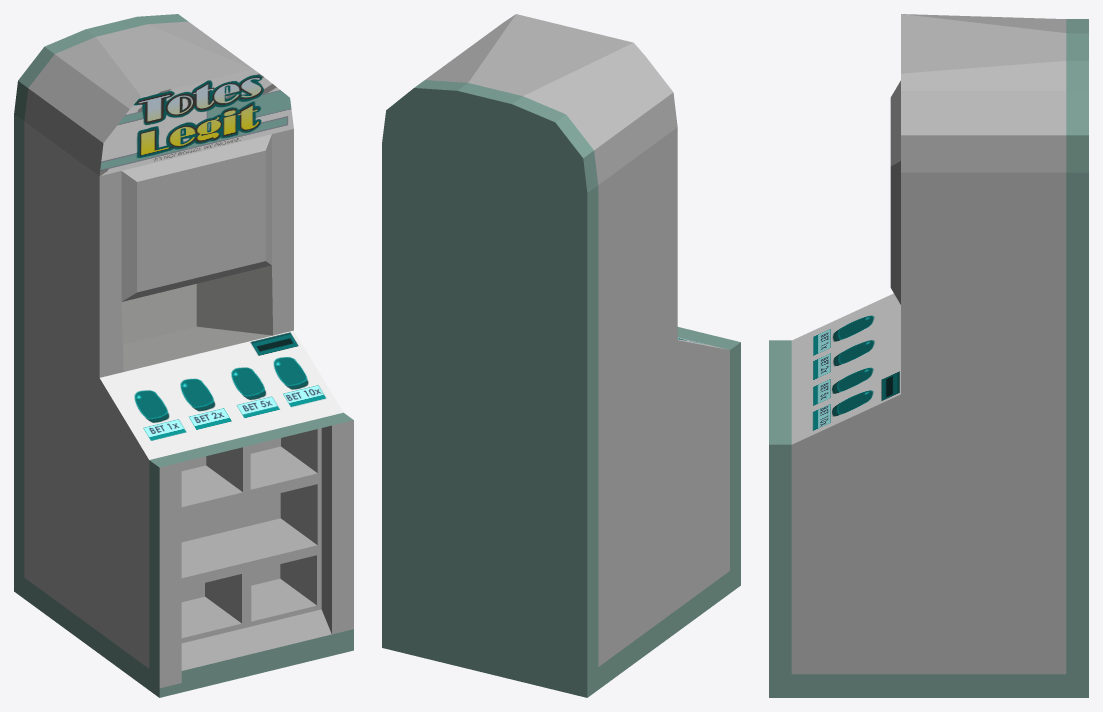
File: OpenCase.fbx
3 renders of one model, left to right at view 1: azimuth 30°, elevation 25°; view 2: azimuth 150°, elevation 25°; view 3: azimuth 270°, elevation 25°, orthographic. The views are drawn at different scales.
Parts seen in each view (by area): view 1: pCube4; view 2: pCube4; view 3: pCube4.
Boxes of the visible parts, x1,y1,x2,y2 form: pCube4: (14,14,353,697); pCube4: (382,14,740,697); pCube4: (769,14,1088,697).
Size of the model in its own units: 6.21 by 16.71 by 8.04.
